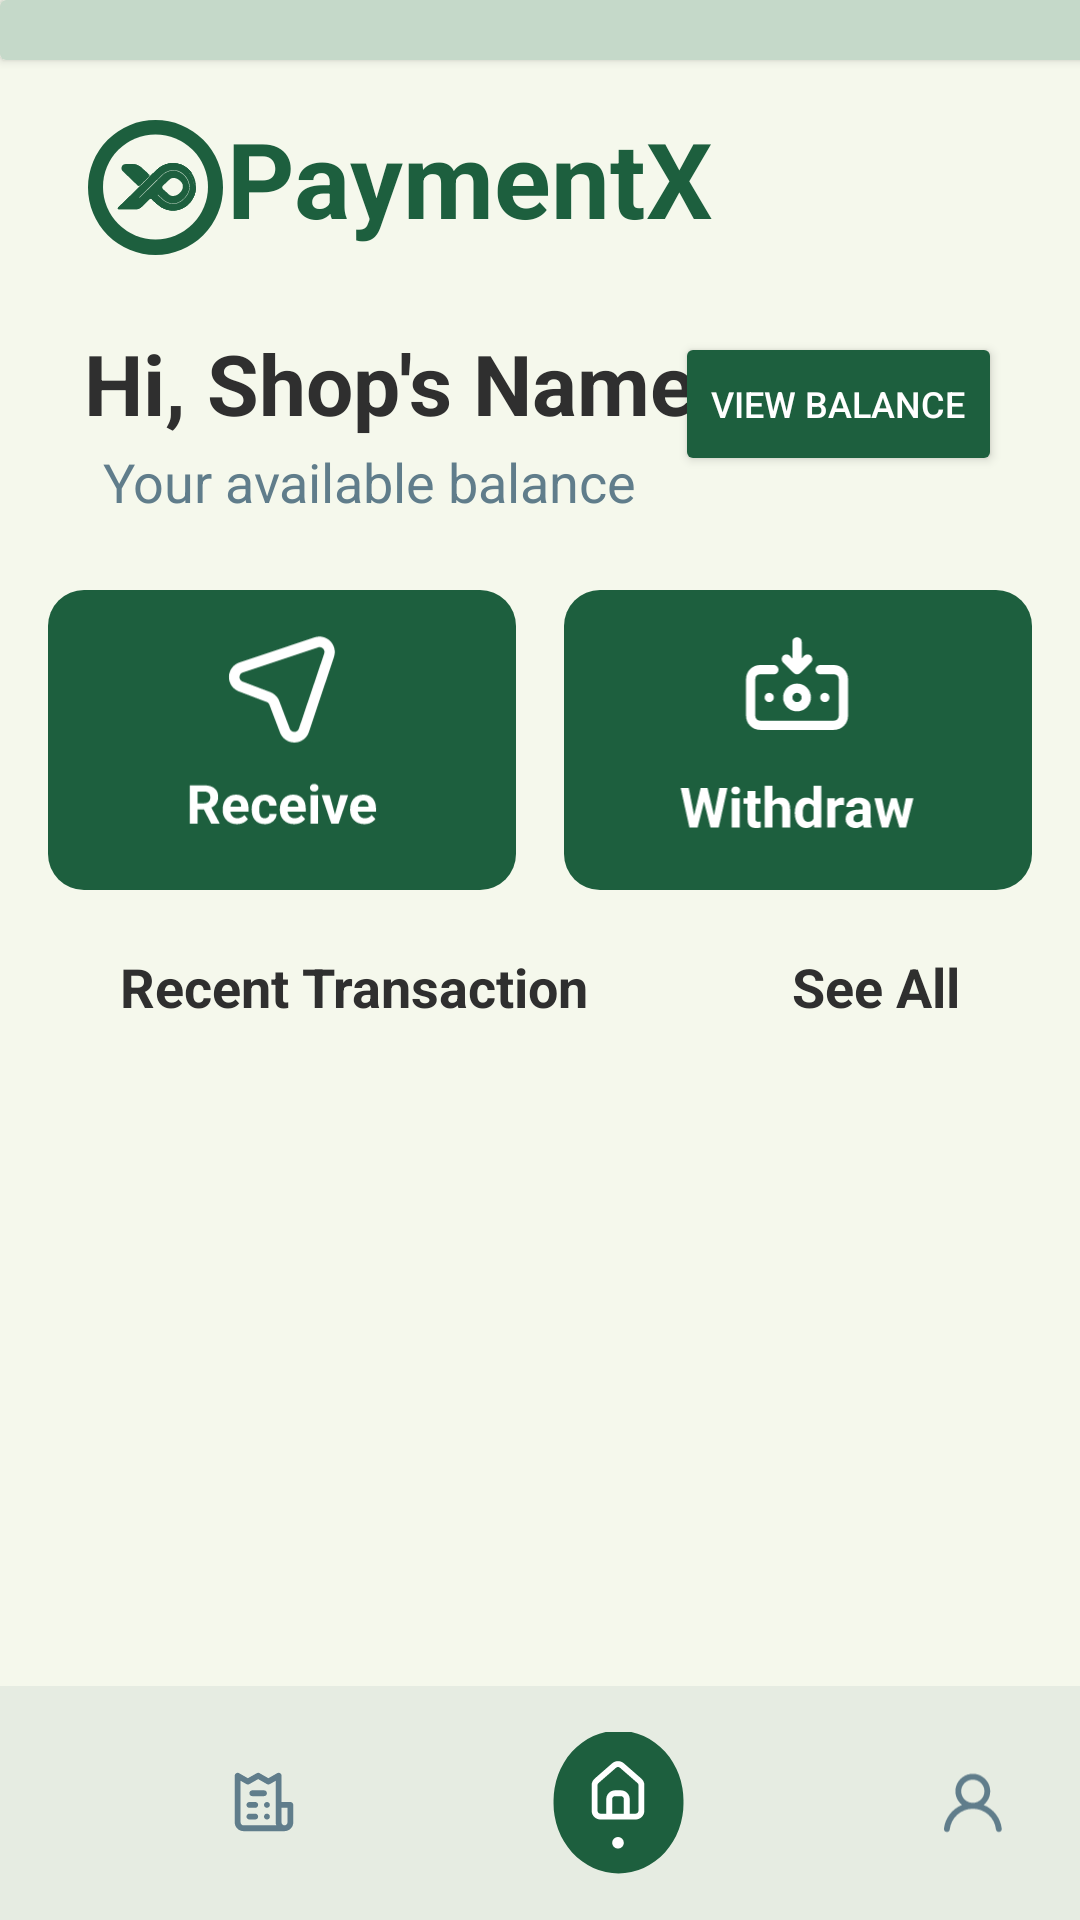

Icons on this 1080*1920 Android screen, each with its box as (left=x1, top=y1, right=x2, bottom=y2):
transaction: (left=234, top=1772, right=294, bottom=1832)
